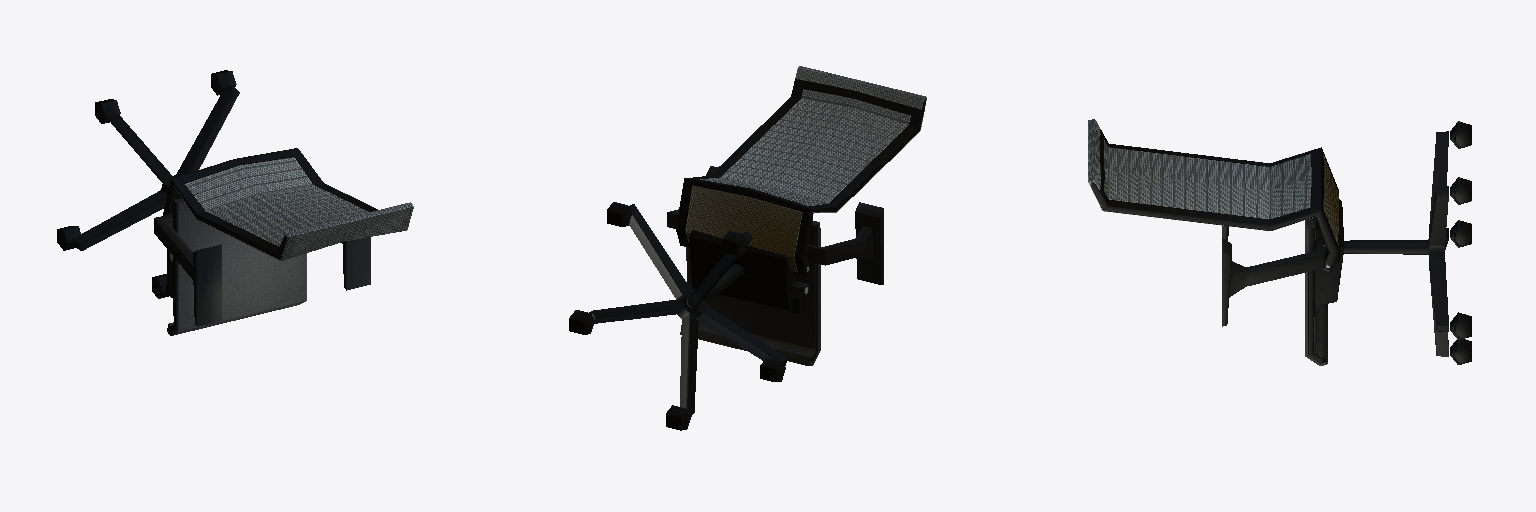
The picture shows the model from 3 angles: view 1: azimuth 30°, elevation 25°; view 2: azimuth 150°, elevation 25°; view 3: azimuth 270°, elevation 25°; orthographic projection.
Visible parts, largest first — view 1: OfficeChairGrey; view 2: OfficeChairGrey; view 3: OfficeChairGrey.
Boxes of the visible parts, x1=… form: OfficeChairGrey: x1=57, y1=70, x2=413, y2=335; OfficeChairGrey: x1=569, y1=66, x2=926, y2=430; OfficeChairGrey: x1=1088, y1=119, x2=1471, y2=365.
Size of the model in its own units: 0.7083 by 0.698 by 1.14.
Materials: 1 (1 with a texture image).